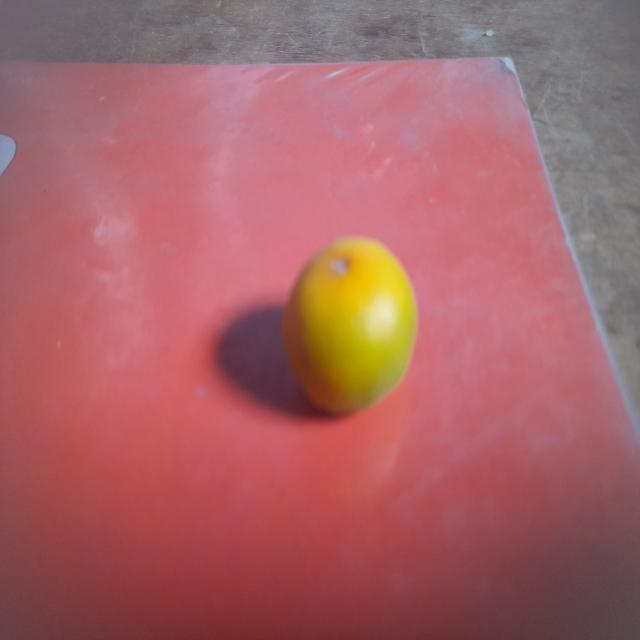greening: (290, 230, 424, 417)
